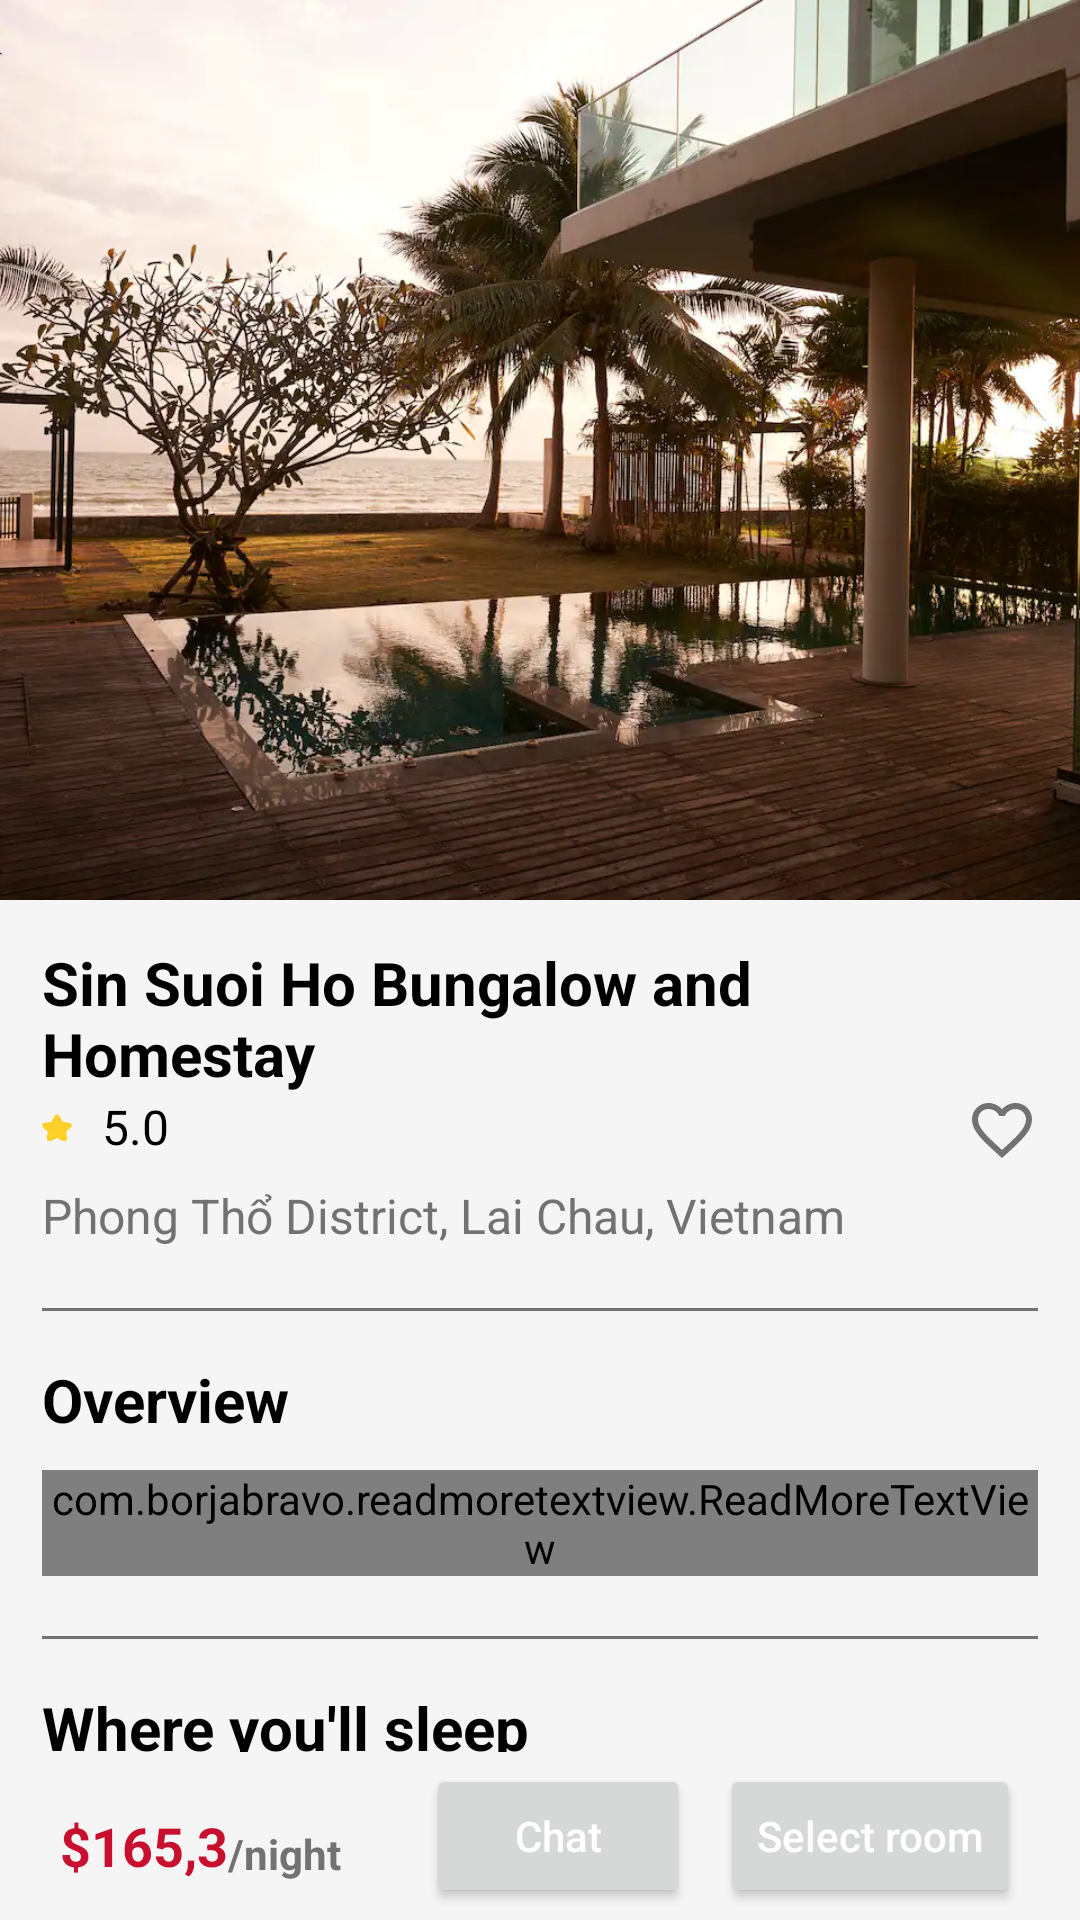

Screen size 1080×1920. Icon name, then its box in pixels as {"x1": x1, "y1": y1, "x2": x2, "y2": y2}:
start rate: {"x1": 42, "y1": 1114, "x2": 72, "y2": 1141}
wishlist border: {"x1": 972, "y1": 1103, "x2": 1032, "y2": 1158}
